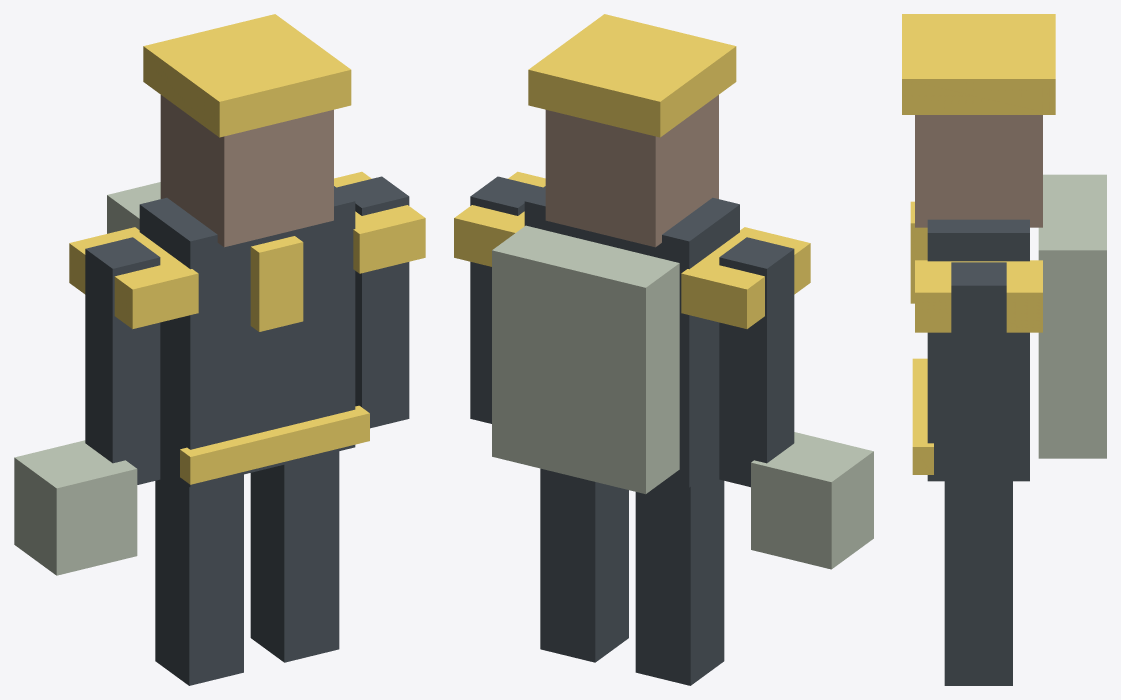
The model's file is 15_isolde_runeclasp_oracle_from_main.glb.
3 renders of one model, left to right at view 1: azimuth 30°, elevation 25°; view 2: azimuth 150°, elevation 25°; view 3: azimuth 270°, elevation 25°, orthographic.
Visible parts, largest first — view 1: Isolde Runeclasp, Oracle from Main; view 2: Isolde Runeclasp, Oracle from Main; view 3: Isolde Runeclasp, Oracle from Main.
Part boxes in pixels (left/top/right/bottom): Isolde Runeclasp, Oracle from Main: left=14, top=14, right=425, bottom=685; Isolde Runeclasp, Oracle from Main: left=454, top=14, right=873, bottom=685; Isolde Runeclasp, Oracle from Main: left=902, top=14, right=1106, bottom=685.
Size of the model in its own units: 1.04 by 1.63 by 0.503.
